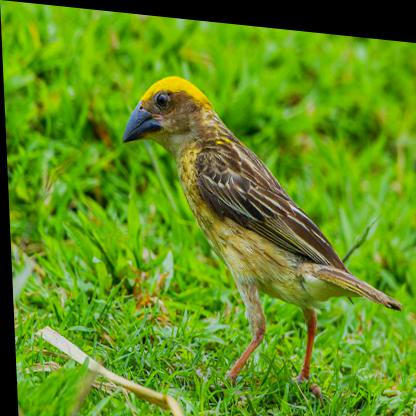Burung: (118, 67, 403, 407)
